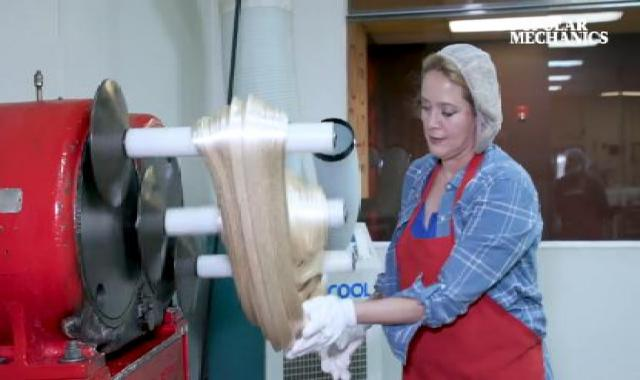hairnet: (425, 41, 507, 150)
